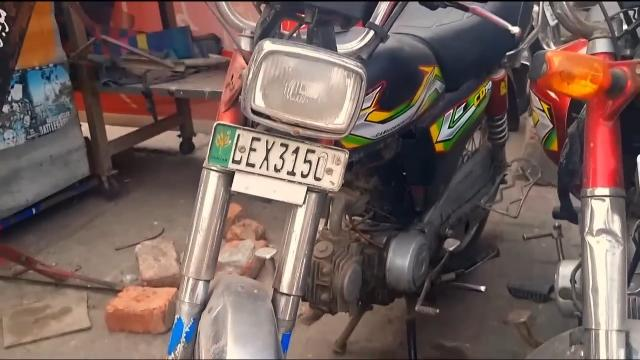plate: (205, 123, 351, 194)
